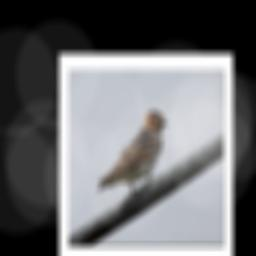Swallow: (95, 108, 169, 198)
